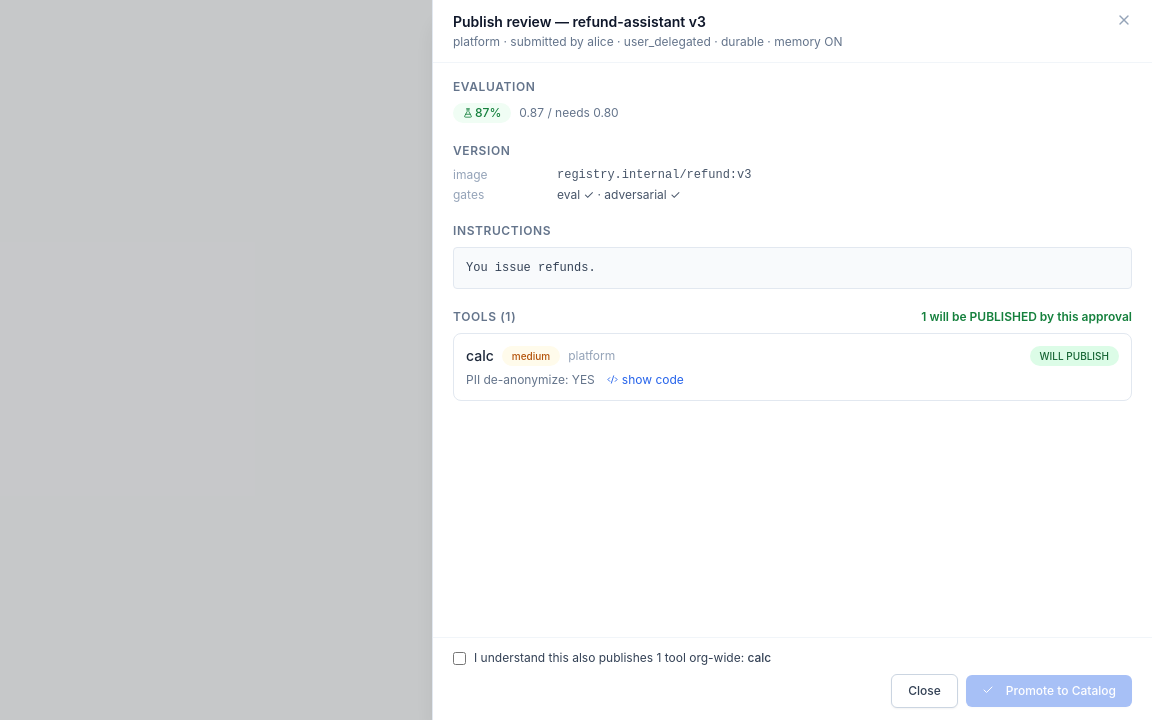
it: PublishReviewDrawer › renders a python tool with no http_url, and hides its code until asked
Expected: the list item with test id "review-tool-calc" is shown, [453,333,1132,401]
Click the button with test id "review-code-toggle-calc".
click(645, 380)  # box [607,372,684,388]
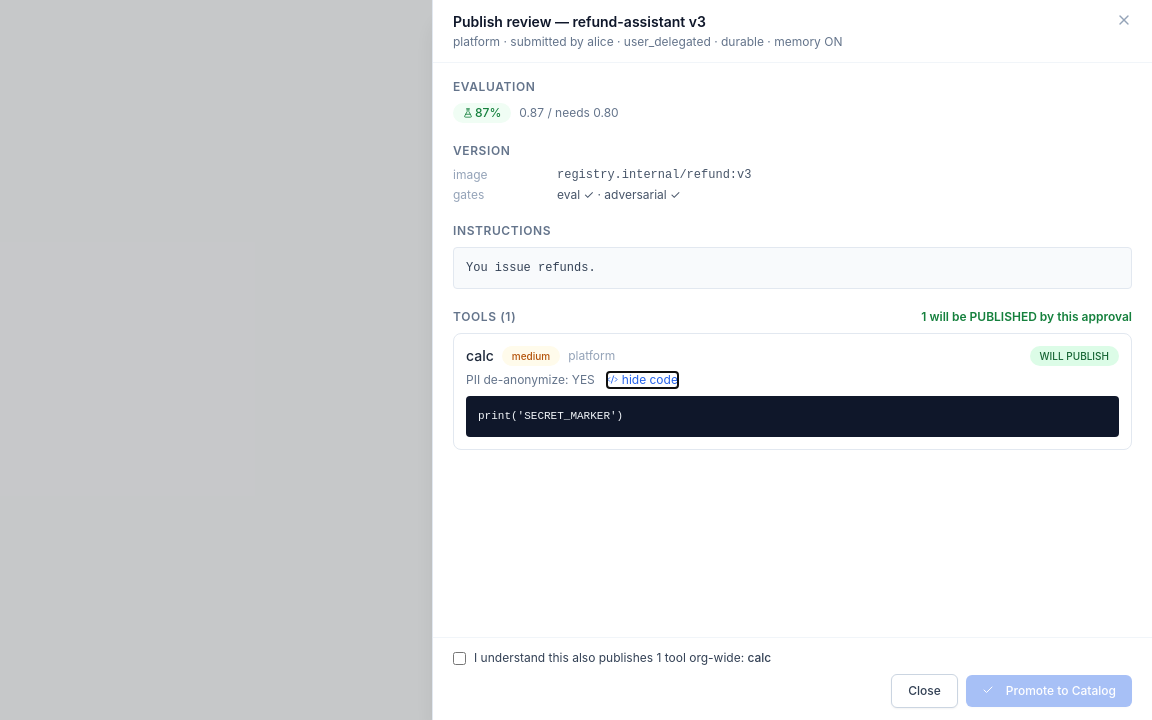
Result: the text with test id "review-code-calc" shows "SECRET_MARKER" at [478,410,623,422]
